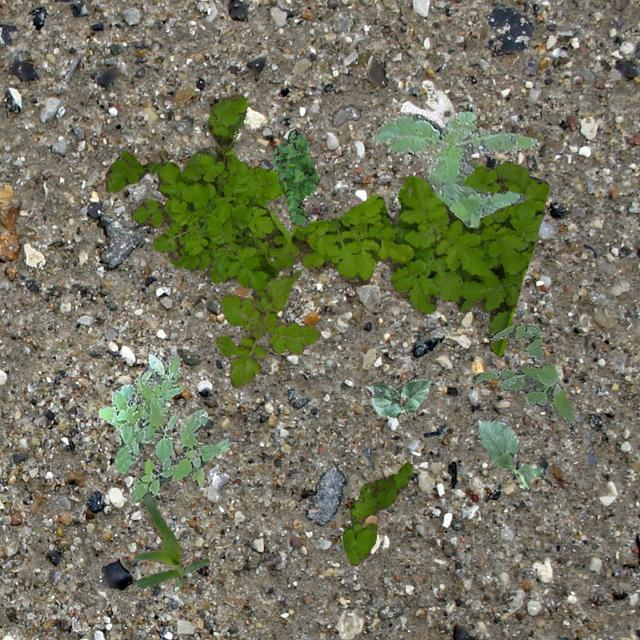crop: (132, 492, 208, 586), (474, 416, 544, 488), (366, 378, 430, 417)
weed: (178, 93, 548, 354), (105, 150, 278, 312), (96, 352, 228, 502), (370, 110, 538, 226), (214, 268, 320, 388), (470, 320, 574, 426), (340, 460, 412, 564), (272, 128, 318, 226)
